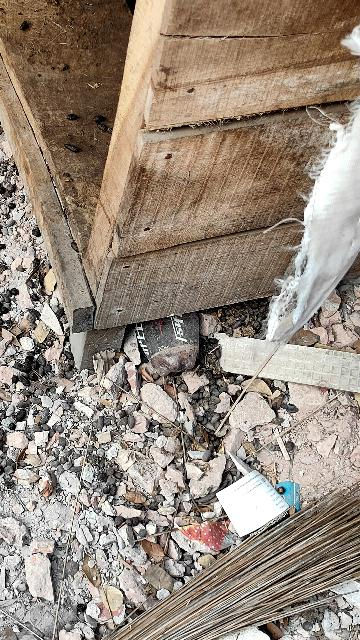bottle: (125, 312, 220, 380)
